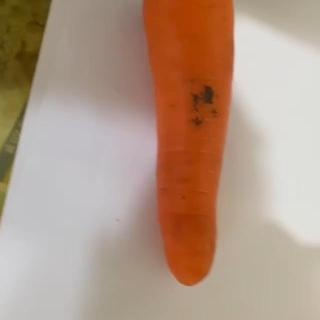carrot: (139, 0, 265, 285)
